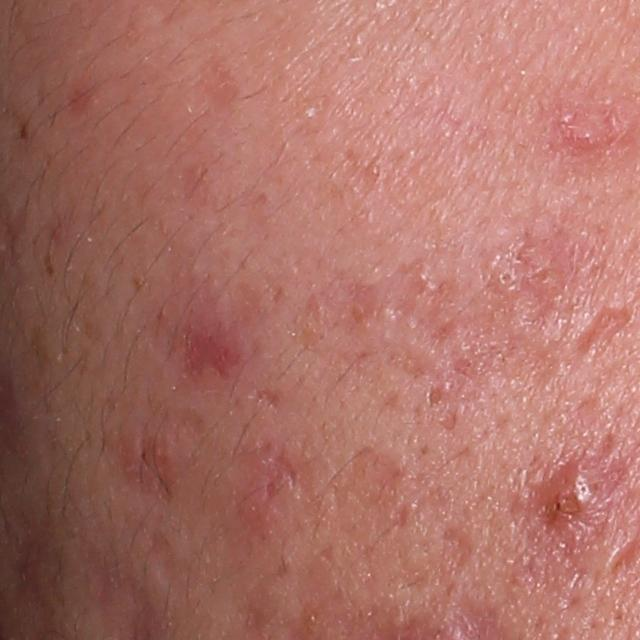atrophic_scar: (317, 446, 412, 623), (144, 524, 191, 591), (573, 305, 633, 355), (249, 443, 305, 491), (442, 523, 479, 571), (247, 386, 284, 410), (387, 501, 415, 529)
comedo: (497, 266, 518, 288)
papule: (535, 472, 603, 529), (569, 119, 607, 161)
